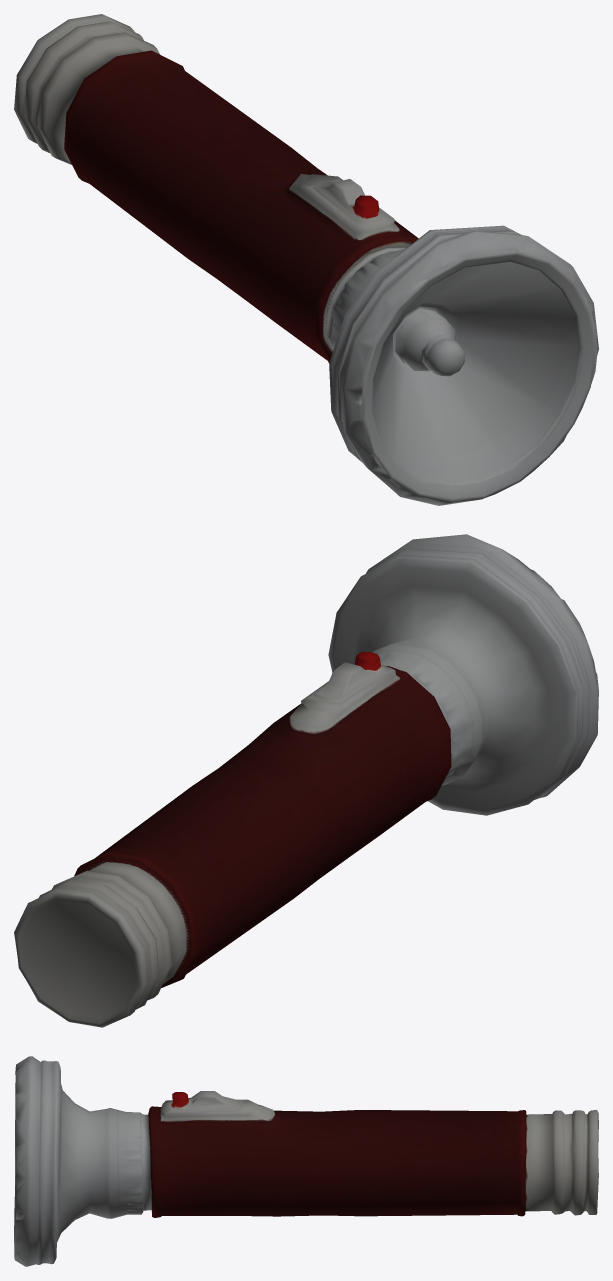
The model's file is Flashlight.fbx.
The picture shows the model from 3 angles, top to bottom: view 1: azimuth 30°, elevation 25°; view 2: azimuth 150°, elevation 25°; view 3: azimuth 270°, elevation 25°; orthographic projection. The views are drawn at different scales.
Visible parts, largest first — view 1: Flash; view 2: Flash; view 3: Flash.
Part boxes in pixels (<box>): Flash: <box>14,14,598,505</box>; Flash: <box>14,534,598,1027</box>; Flash: <box>14,1056,598,1266</box>.
Size of the model in its own units: 34.71 by 35.15 by 95.72.
Materials: 1 (1 with a texture image).
